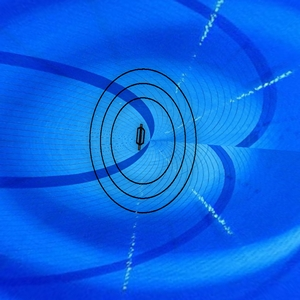circle: (87, 66, 200, 218)
submarine: (133, 120, 153, 153)
